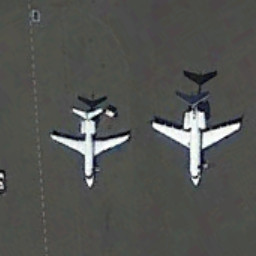Airplane: (144, 87, 246, 199), (46, 103, 135, 192)
